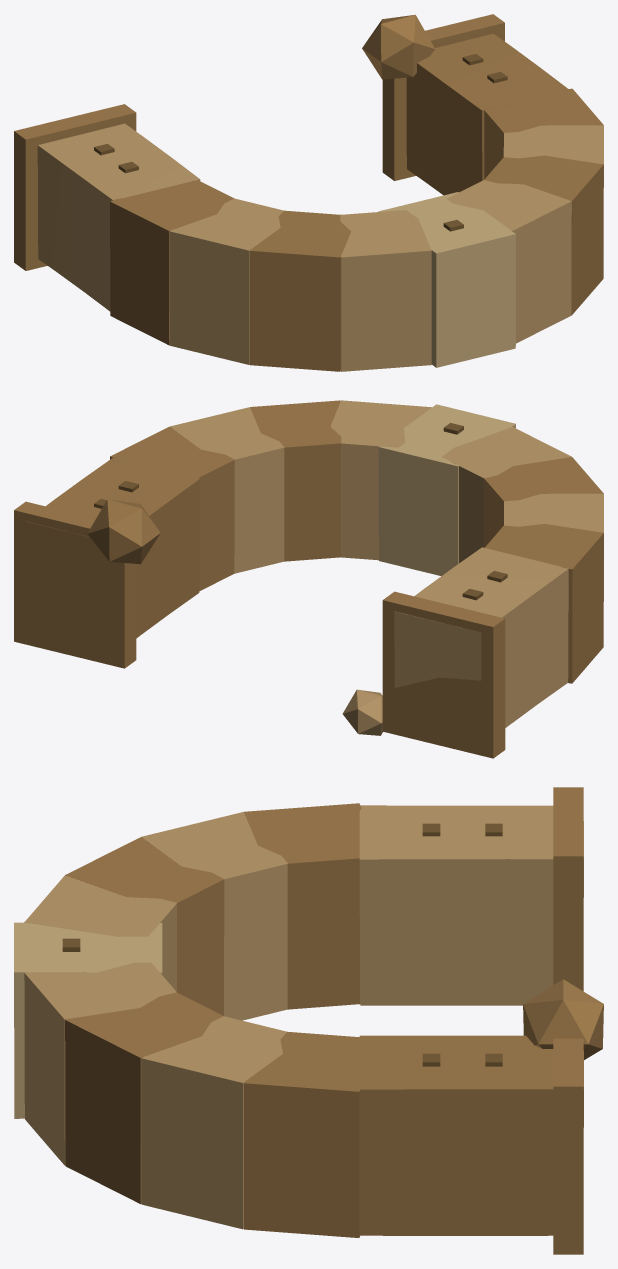
File: arch.glb
The picture shows the model from 3 angles, top to bottom: view 1: azimuth 30°, elevation 25°; view 2: azimuth 150°, elevation 25°; view 3: azimuth 270°, elevation 25°; orthographic projection. The views are drawn at different scales.
Visible parts, largest first — view 1: ArchMesh; view 2: ArchMesh; view 3: ArchMesh.
Part boxes in pixels (x1=…): ArchMesh: x1=14, y1=14, x2=603, y2=371; ArchMesh: x1=14, y1=400, x2=603, y2=758; ArchMesh: x1=14, y1=787, x2=603, y2=1254.
Bounding box in the file's own units: 1 × 0.3365 × 0.8333.
